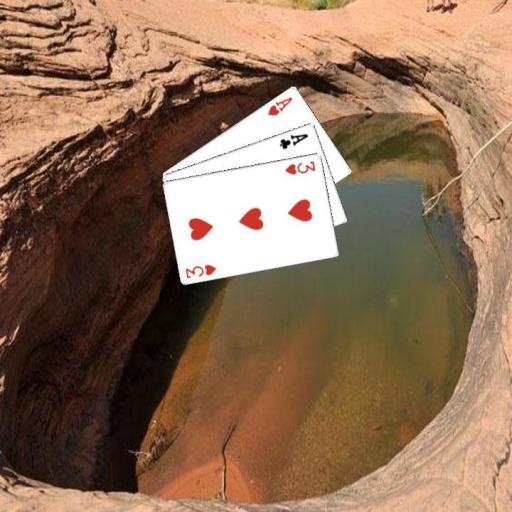3H: (182, 261, 218, 279), (282, 158, 317, 176)
AC: (277, 130, 309, 151)
AH: (265, 93, 295, 117)
